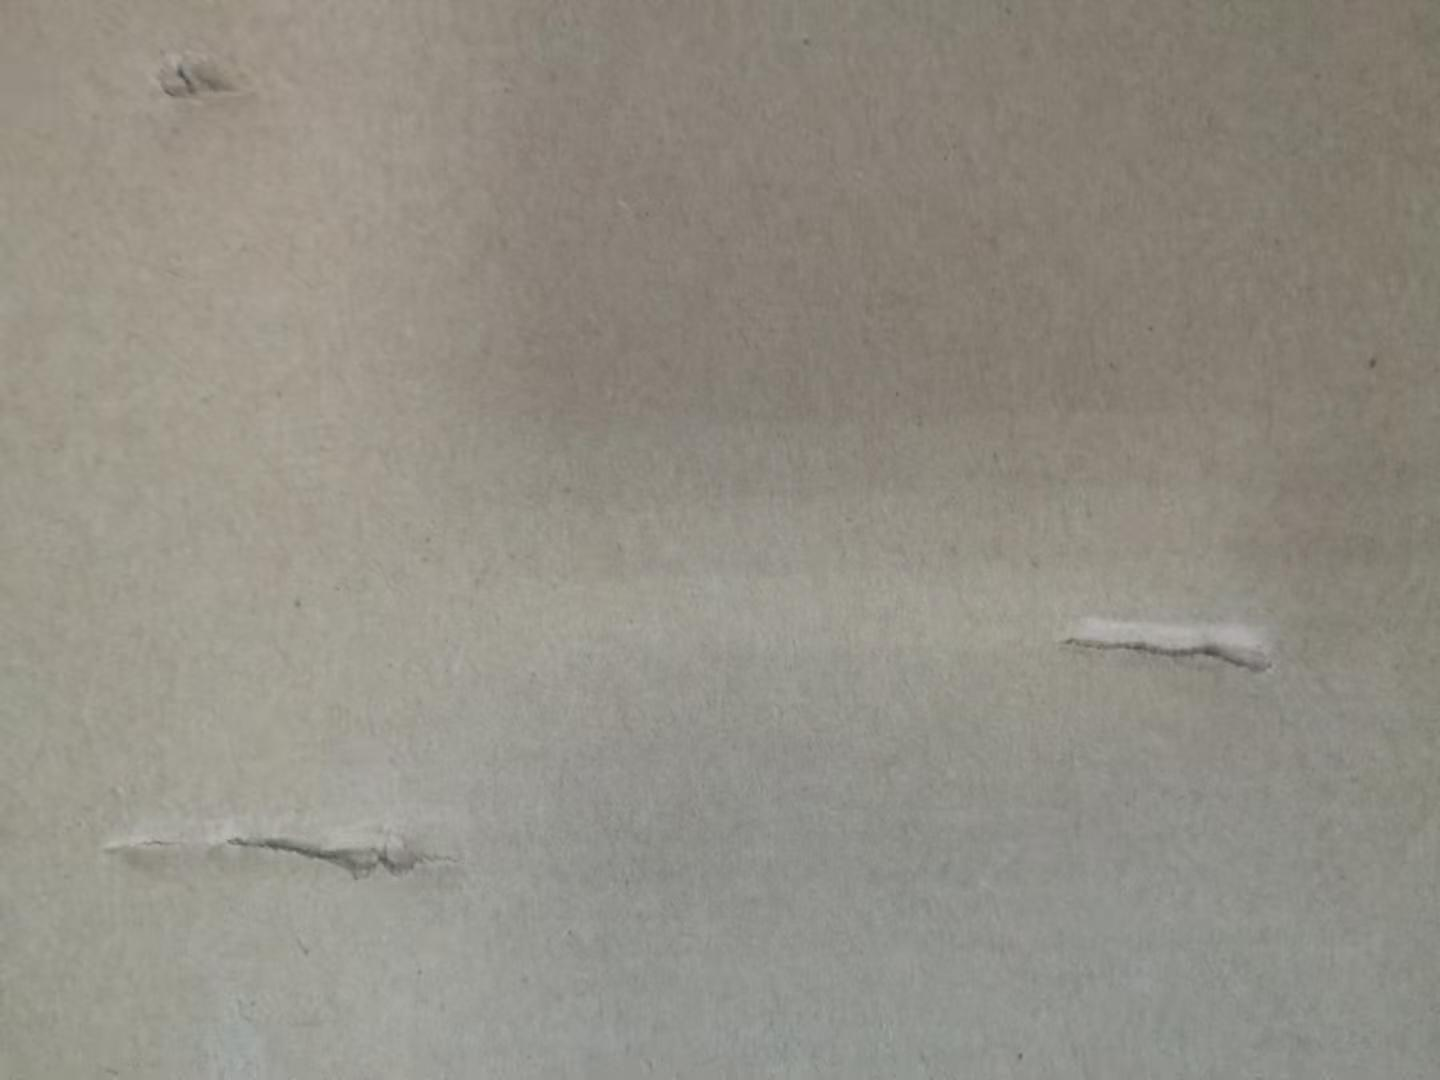defect: (90, 774, 478, 939), (1030, 569, 1303, 716), (127, 37, 270, 132)
